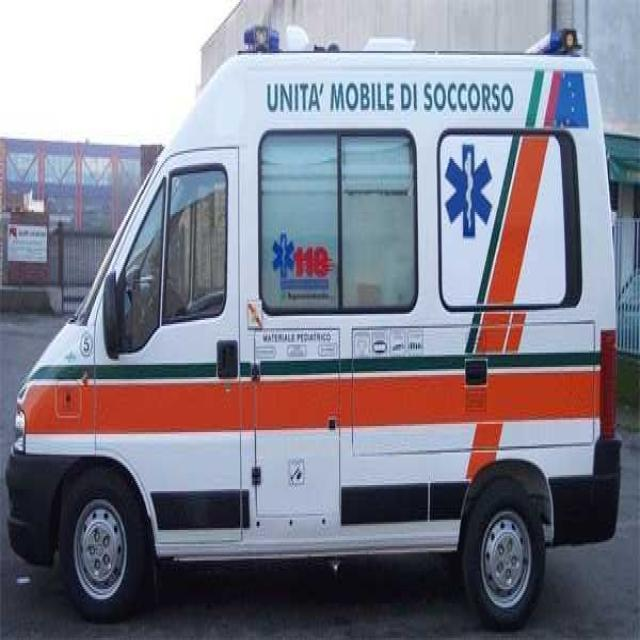ambulance: (2, 22, 629, 640)
